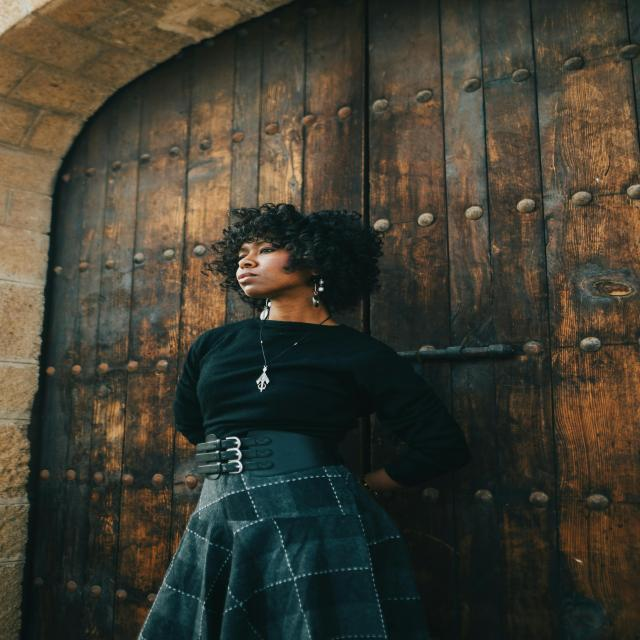stand: (176, 208, 408, 640)
